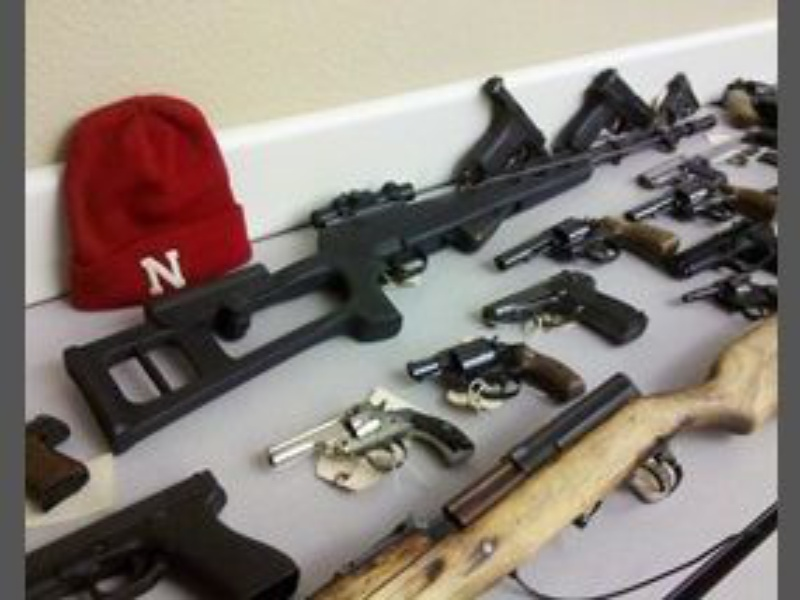gun: (63, 104, 719, 459), (307, 314, 791, 596), (29, 472, 302, 599), (245, 386, 479, 471), (407, 330, 585, 402), (479, 279, 654, 344), (489, 214, 674, 274), (466, 74, 546, 180), (557, 71, 655, 150), (675, 216, 785, 285), (25, 408, 91, 514), (685, 278, 785, 325), (649, 67, 705, 119)
